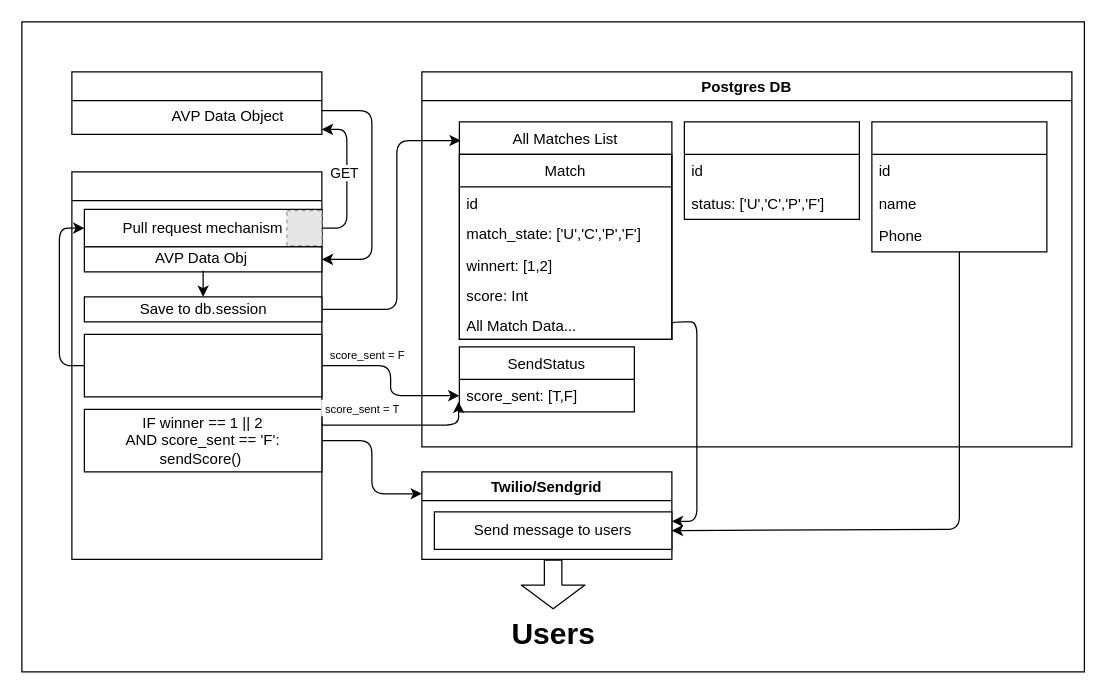
Image size: 1106x694. Some labels were removed from this diagram. Grey dashed boxes stand in for pictures. Here are the shapes that lost their labels. From the top down, the box of each, then its label:
(71, 71, 322, 134): AVP API
(683, 121, 859, 219): Tournament
(871, 121, 1047, 252): User
(71, 171, 322, 559): Flask Server
(83, 333, 322, 397): IF any match_status == 'P': increase pull mechanism frequency
